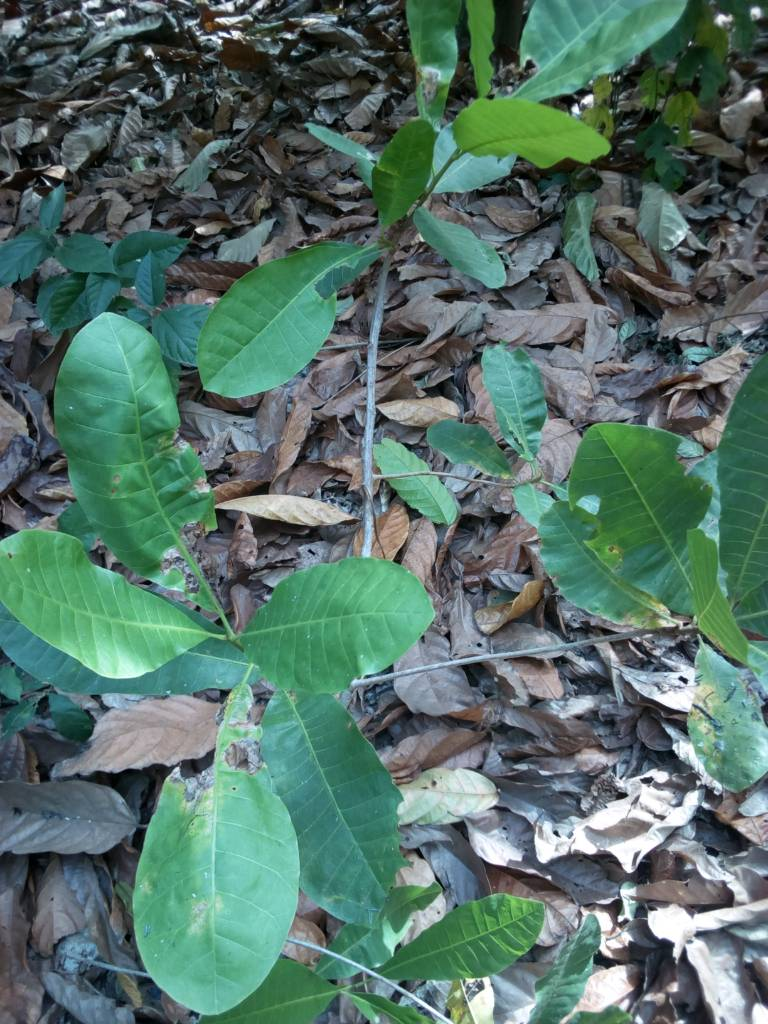Helopeltis anacardii: (133, 711, 299, 1014), (57, 316, 222, 585)
